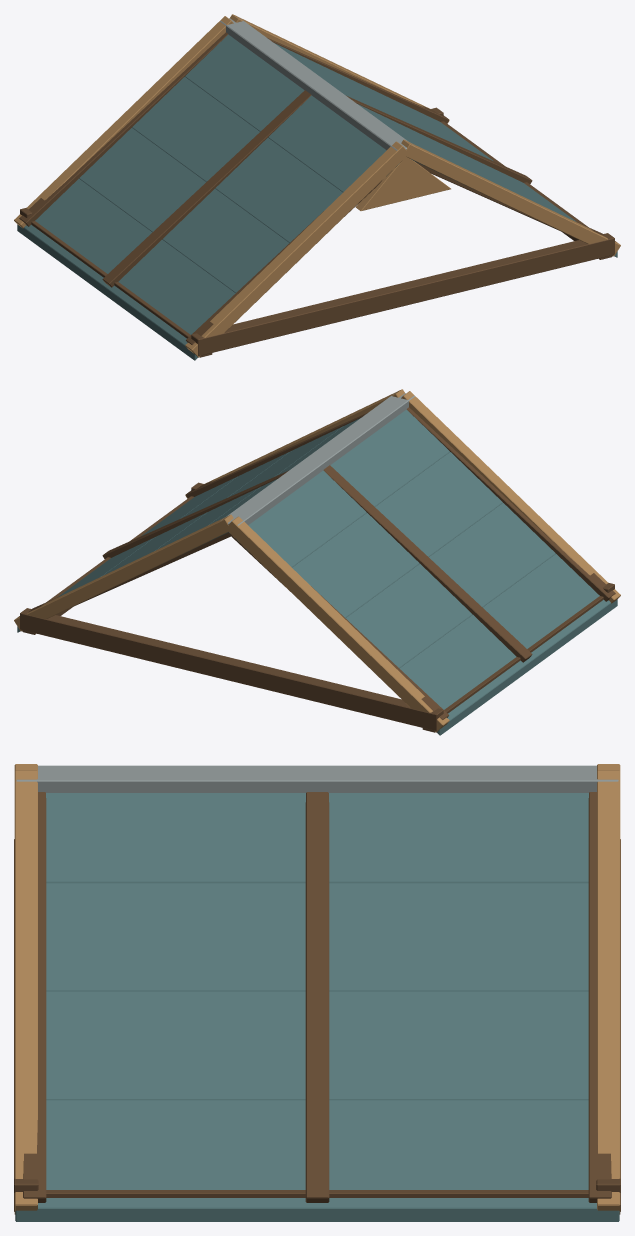
File: S019_gable_roof_rebuilt.glb
The picture shows the model from 3 angles, top to bottom: view 1: azimuth 30°, elevation 25°; view 2: azimuth 150°, elevation 25°; view 3: azimuth 270°, elevation 25°; orthographic projection. The views are drawn at different scales.
Parts seen in each view (by area): view 1: Muted_teal_scenic_paint, Dark_stained_structural_timber, Scenic_framing_warm_bare_timber, Bare_brushed_hardware; view 2: Muted_teal_scenic_paint, Dark_stained_structural_timber, Scenic_framing_warm_bare_timber, Bare_brushed_hardware; view 3: Muted_teal_scenic_paint, Dark_stained_structural_timber, Scenic_framing_warm_bare_timber, Bare_brushed_hardware.
Part boxes in pixels (left/top/right/bottom): Muted_teal_scenic_paint: left=17, top=34, right=617, bottom=360; Dark_stained_structural_timber: left=19, top=32, right=615, bottom=357; Scenic_framing_warm_bare_timber: left=14, top=14, right=620, bottom=357; Bare_brushed_hardware: left=220, top=17, right=413, bottom=150; Muted_teal_scenic_paint: left=17, top=409, right=617, bottom=735; Dark_stained_structural_timber: left=19, top=407, right=615, bottom=732; Scenic_framing_warm_bare_timber: left=14, top=389, right=620, bottom=732; Bare_brushed_hardware: left=221, top=392, right=414, bottom=525; Muted_teal_scenic_paint: left=15, top=793, right=619, bottom=1221; Dark_stained_structural_timber: left=14, top=792, right=620, bottom=1211; Scenic_framing_warm_bare_timber: left=14, top=764, right=620, bottom=1214; Bare_brushed_hardware: left=16, top=765, right=618, bottom=792.
Size of the model in its own units: 3.06 by 1.12 by 2.2.
